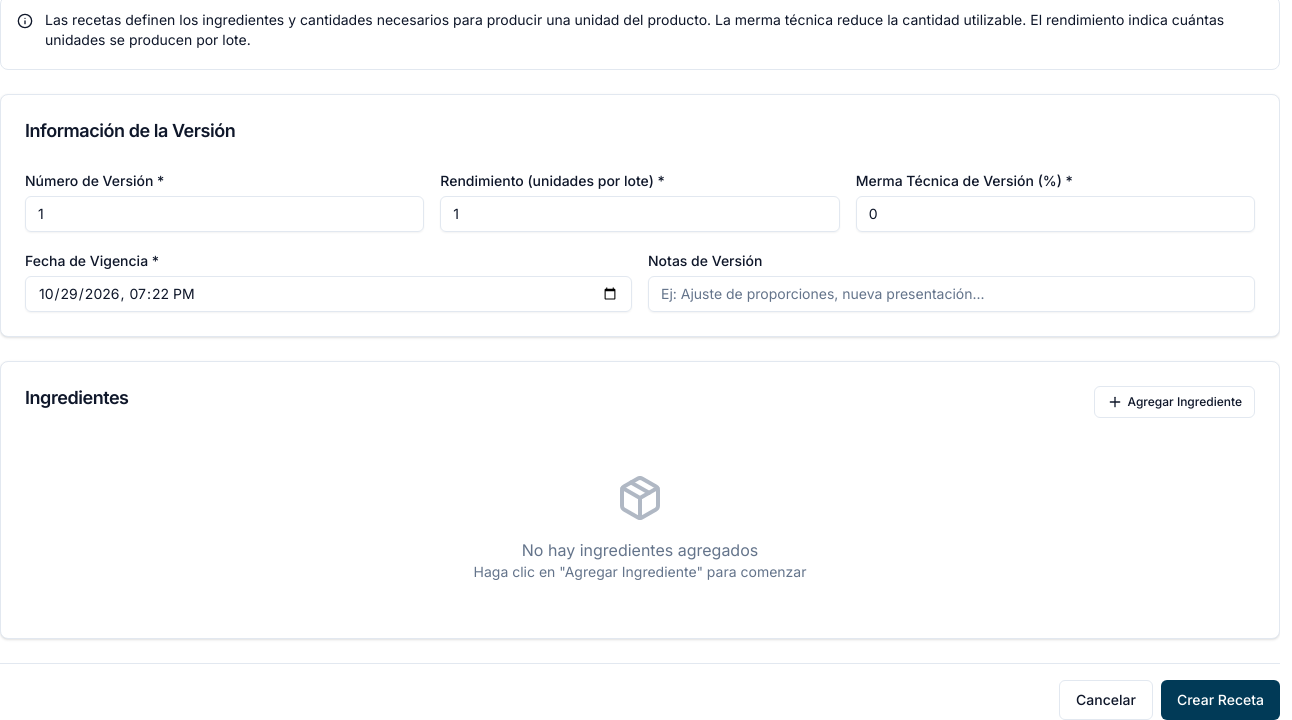
Scenario: W7 — RecipeForm › shows validation error when submitting without ingredients
Click the button "Crear Receta": point(1220, 700) [1161,680,1280,719]
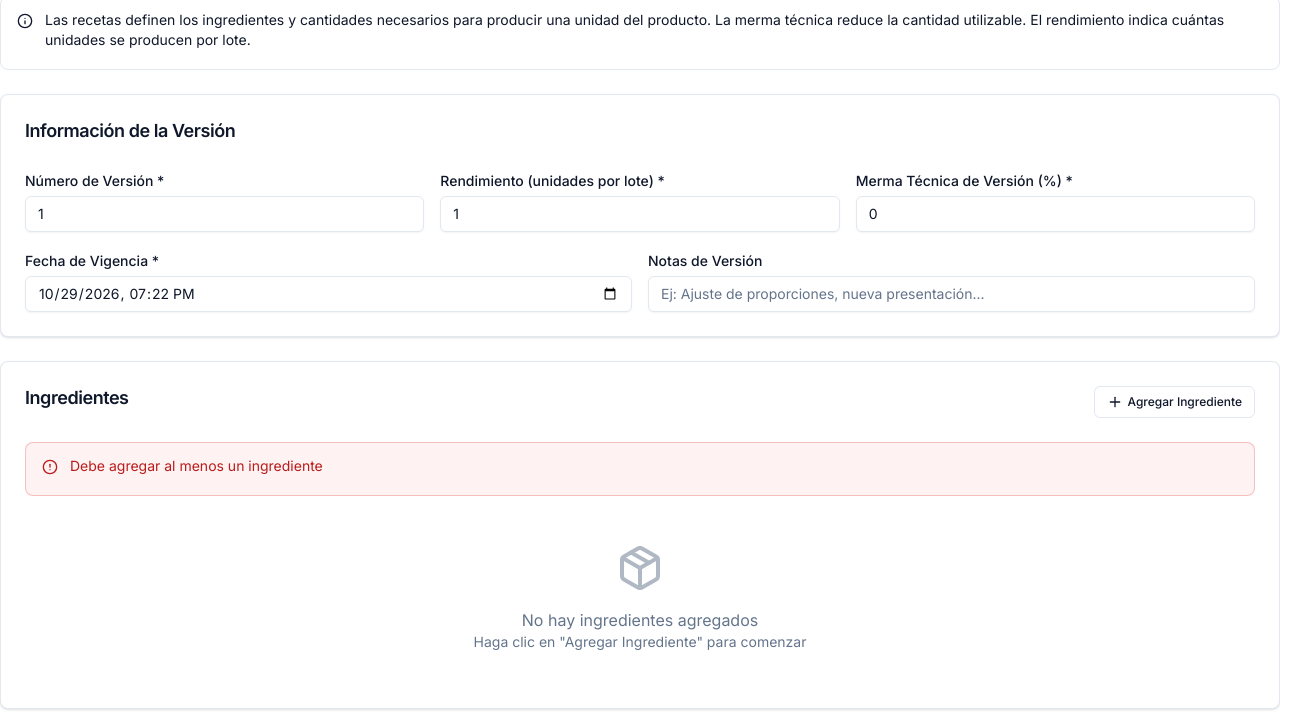
Now the text "Debe agregar al menos un ingrediente" is shown, box [70,457,323,474]
